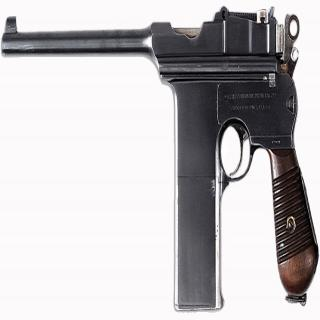gun: (1, 2, 320, 315)
